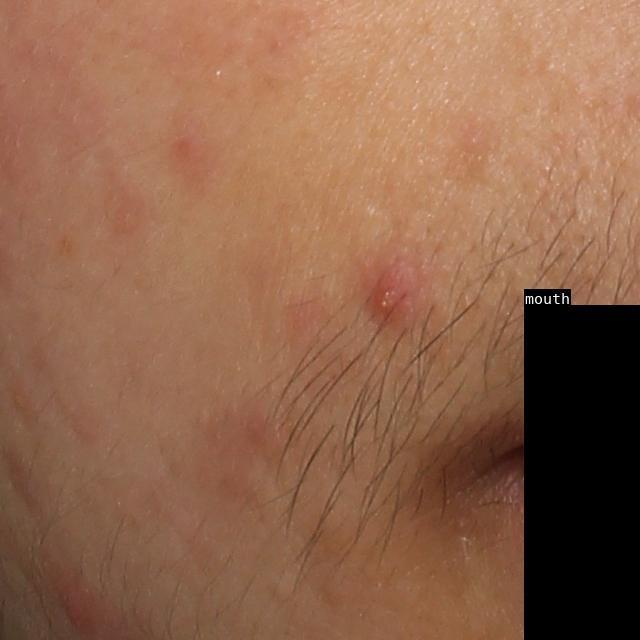comedo: (540, 58, 560, 76)
papule: (358, 252, 418, 328), (53, 574, 95, 635)
